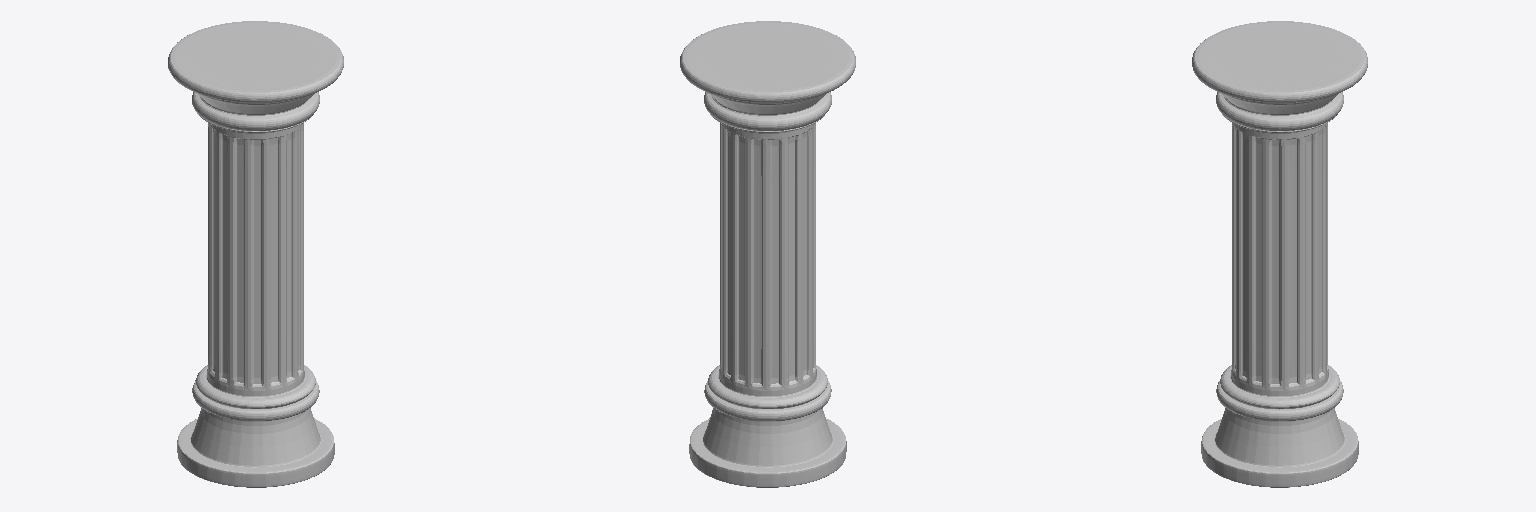
Rendered from Pillar.mtl.obj.
The picture shows the model from 3 angles: view 1: azimuth 30°, elevation 25°; view 2: azimuth 150°, elevation 25°; view 3: azimuth 270°, elevation 25°; orthographic projection.
Visible parts, largest first — view 1: Pillar; view 2: Pillar; view 3: Pillar.
Part boxes in pixels (x1,y1,x2,y2): Pillar: (168,21,343,487); Pillar: (680,21,855,487); Pillar: (1192,21,1367,487).
Bounding box in the file's own units: 20.2 × 50.24 × 20.22.